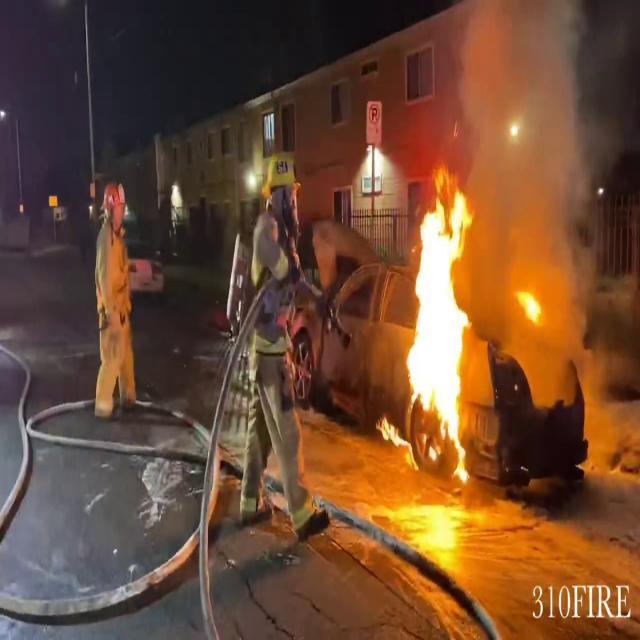Fire: (397, 163, 477, 486), (513, 282, 546, 328)
Smoke: (440, 0, 610, 302)
